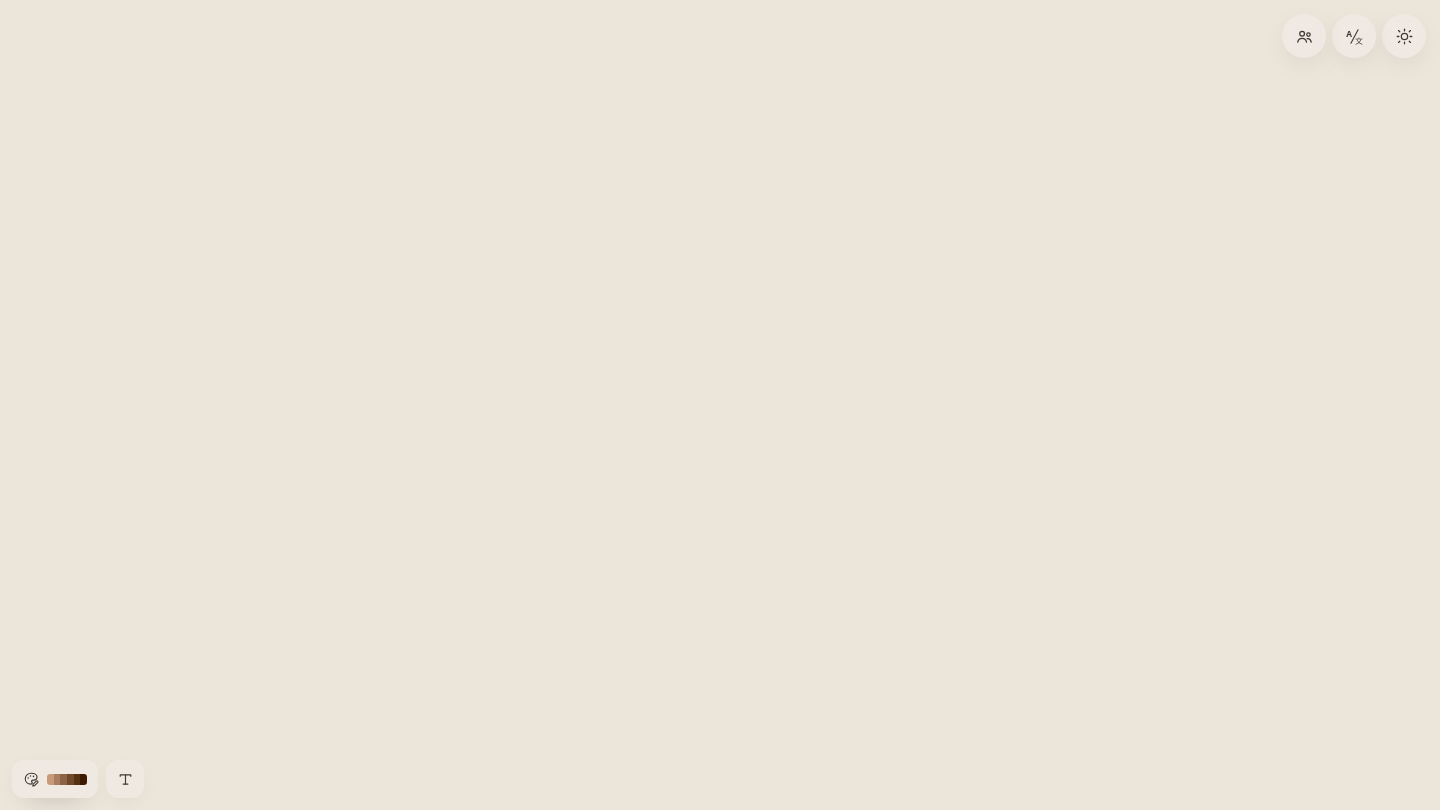
Test: the community board is a sheet › the close button in its bar shuts the board
Click the button with class "community-quick": (1304, 36) x1=1282 y1=14 x2=1326 y2=58
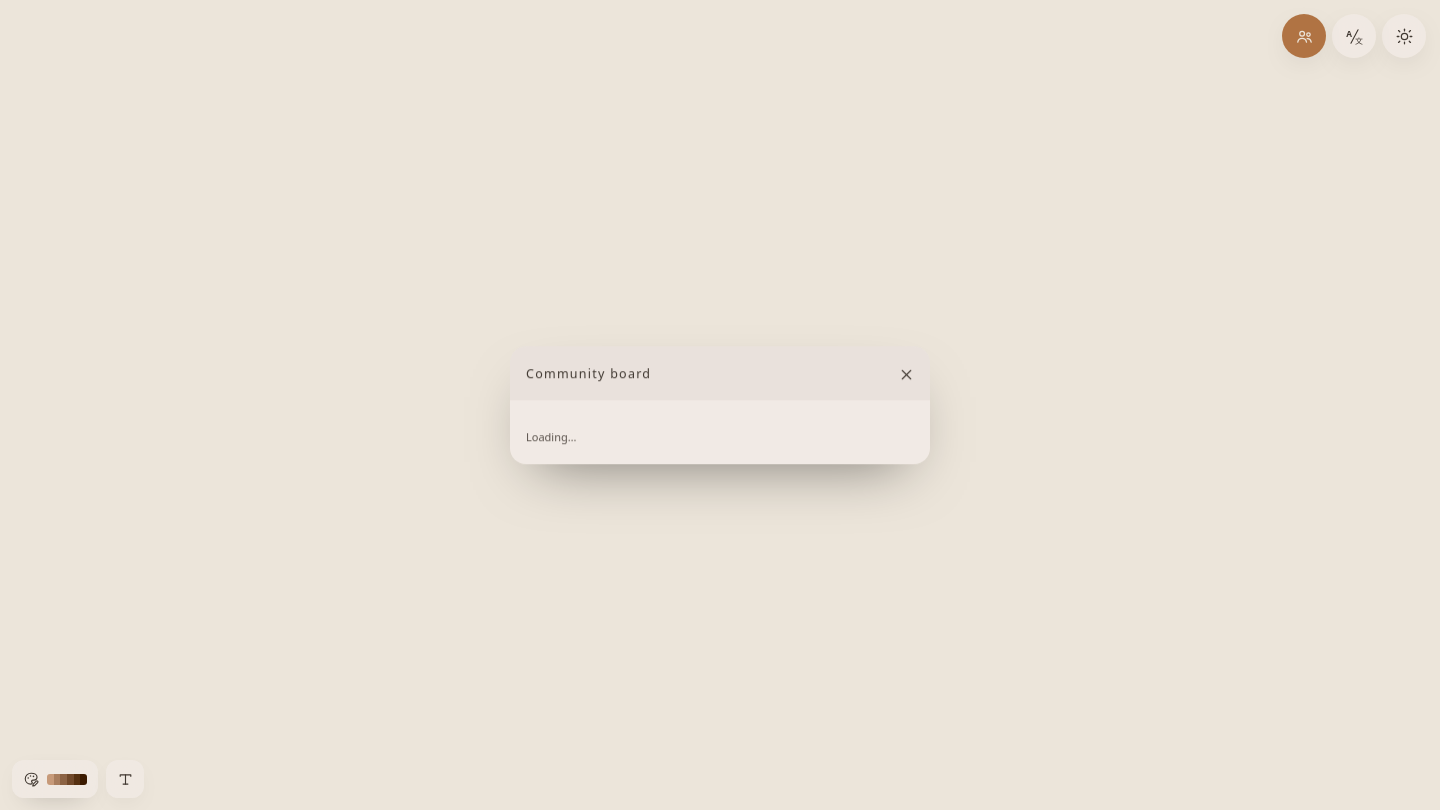
Expected: the dialog with class "community" is shown, x1=510 y1=346 x2=930 y2=464
Click the button with class "sheet-close": (906, 374) x1=890 y1=358 x2=922 y2=390
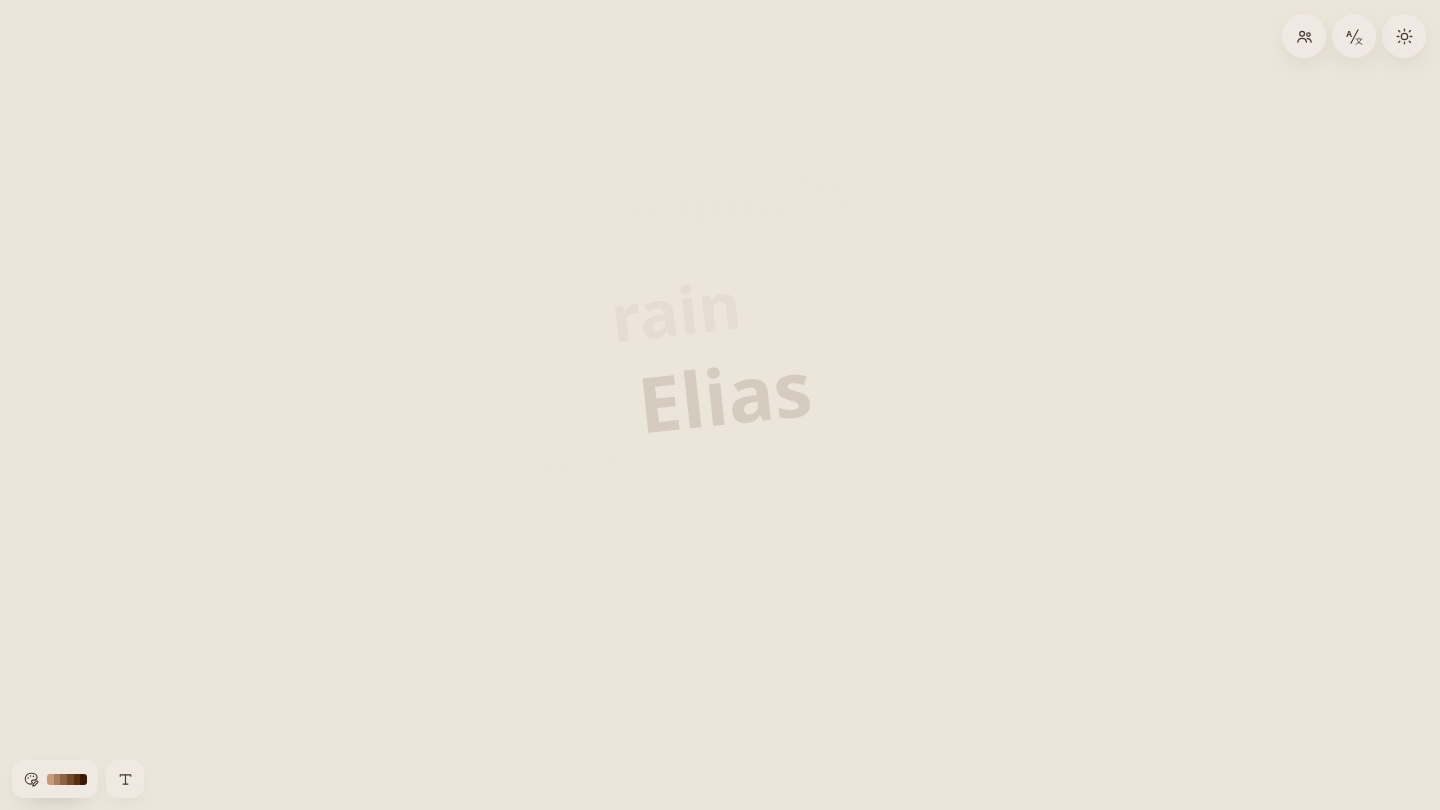
Expected: the dialog with class "community" is gone
Expected: the dialog with class "sheet" is gone
